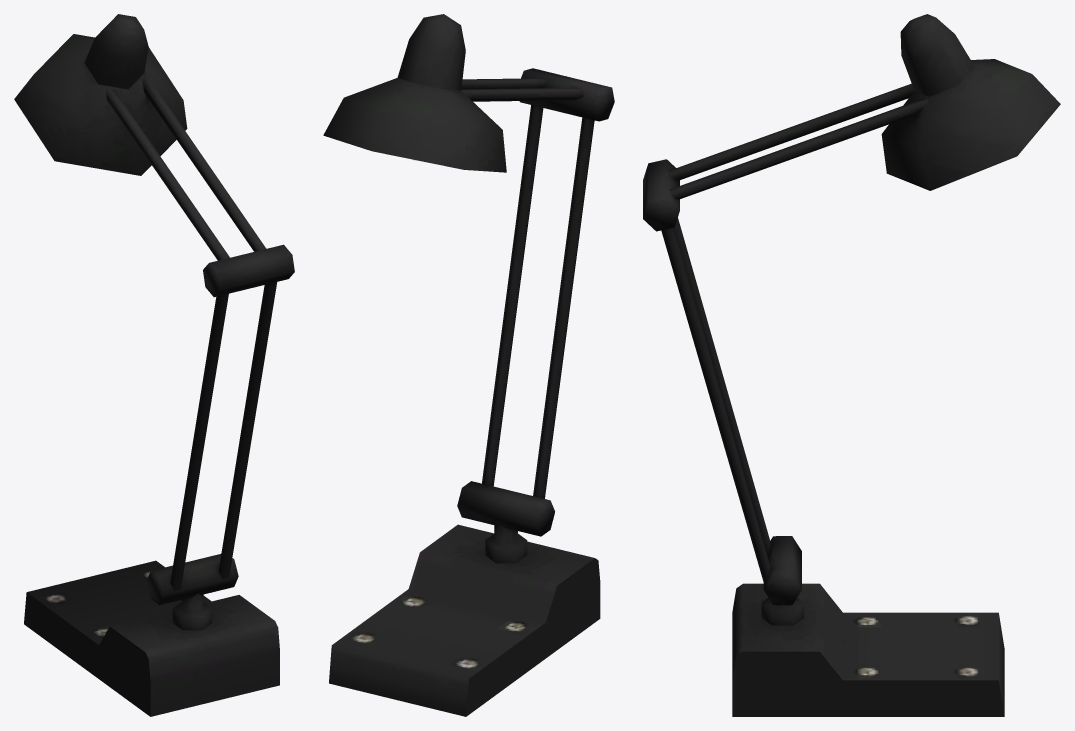
File: furni_0200420.FBX
3 views of the same model, side by side, from view 1: azimuth 30°, elevation 25°; view 2: azimuth 150°, elevation 25°; view 3: azimuth 270°, elevation 25° (orthographic). The views are drawn at different scales.
Parts seen in each view (by area): view 1: furni_0200420; view 2: furni_0200420; view 3: furni_0200420.
Part boxes in pixels (<box>): furni_0200420: <box>14,14,294,716</box>; furni_0200420: <box>323,14,614,716</box>; furni_0200420: <box>643,14,1060,716</box>.
Size of the model in its own units: 19.33 by 85.63 by 48.81.
1 material, 1 textured.
